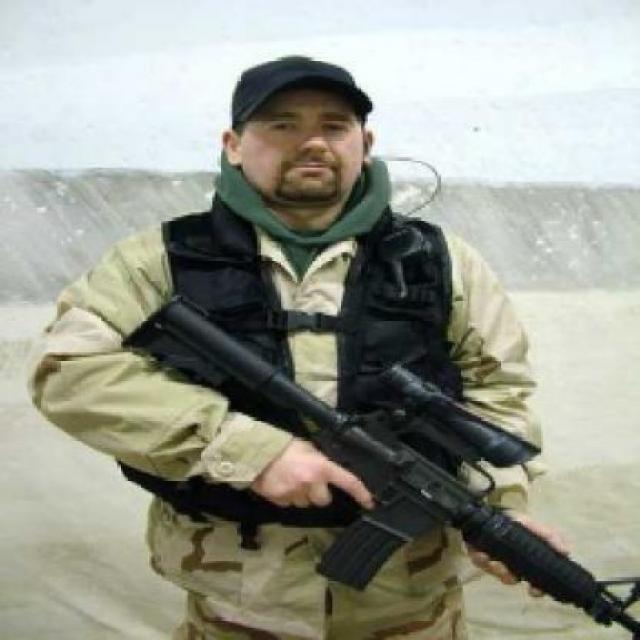Rifle: (124, 293, 640, 640)
